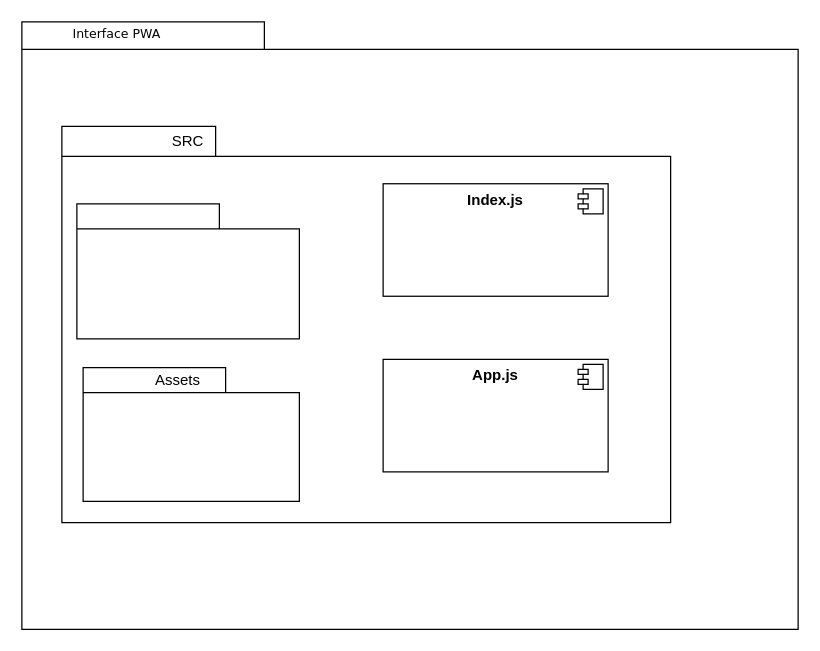
The diagram is 820 pixels wide and 651 high, and some of its shapes have lost their labels. The shapes that lost their labels are listed below. From the top down, each one's box as (x1, y1, x2, y2) in pixels, then its label:
(76, 202, 299, 339): Components
(82, 366, 299, 501): img
